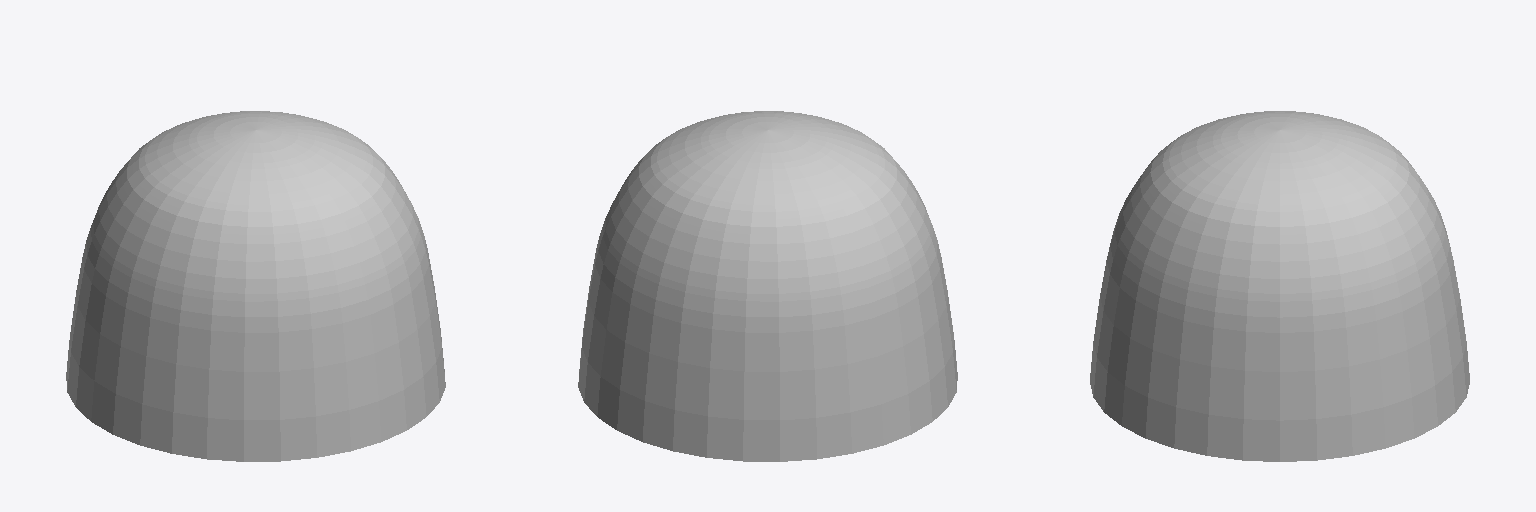
File: dome.obj
3 views of the same model, side by side, from view 1: azimuth 30°, elevation 25°; view 2: azimuth 150°, elevation 25°; view 3: azimuth 270°, elevation 25° (orthographic).
Visible parts, largest first — view 1: Sphere; view 2: Sphere; view 3: Sphere.
Part boxes in pixels (x1,y1,x2,y2): Sphere: (66,111,445,461); Sphere: (578,111,957,461); Sphere: (1090,111,1469,461).
Bounding box in the file's own units: 1.73 × 1.26 × 1.73.